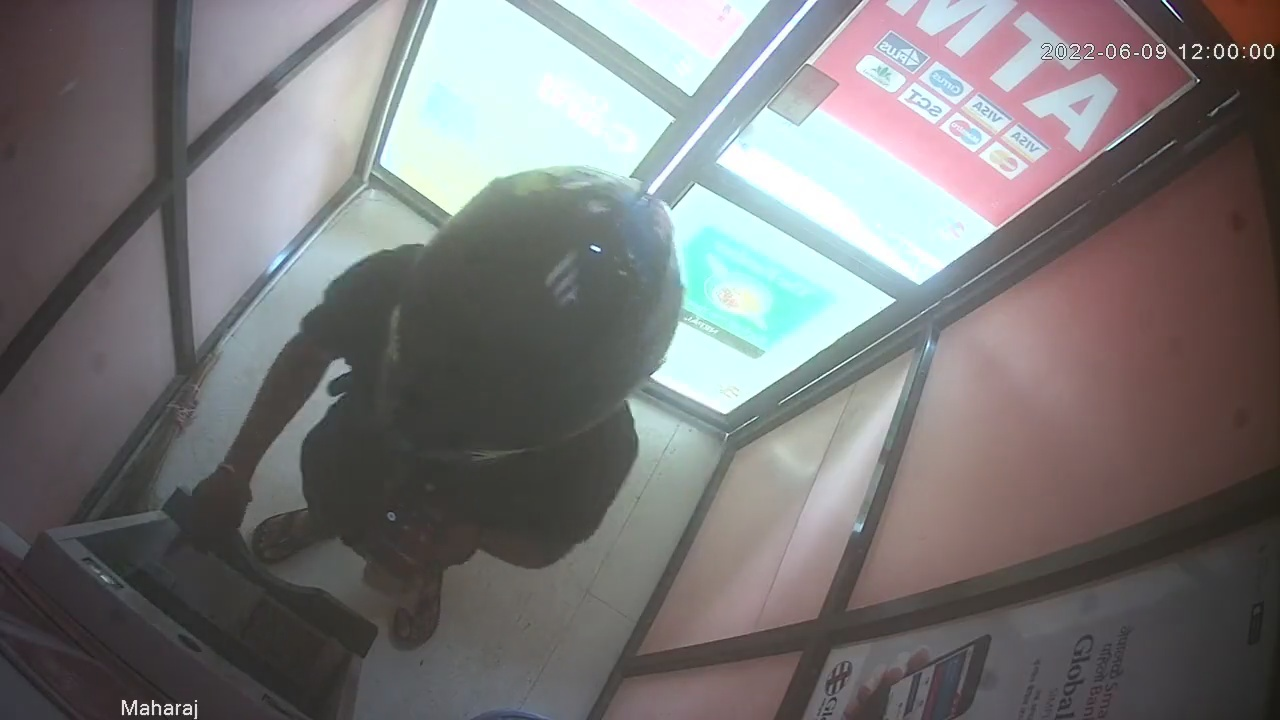helmet: (385, 166, 681, 468)
person: (180, 159, 684, 653)
